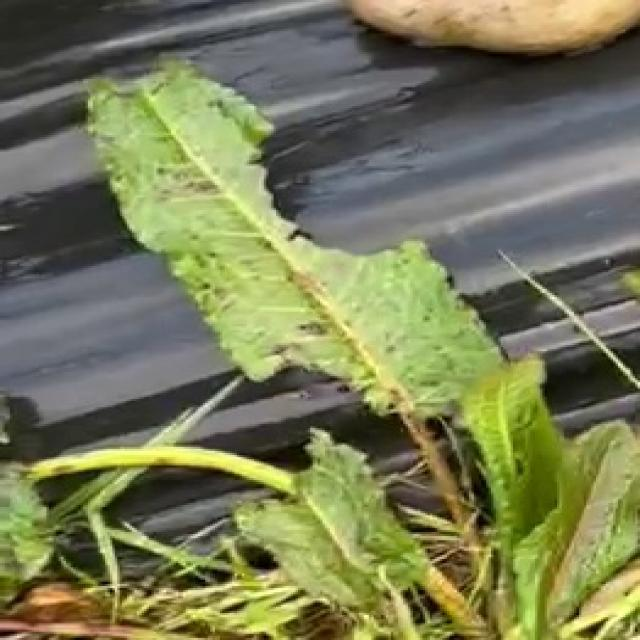organic waste: (23, 53, 640, 587)
